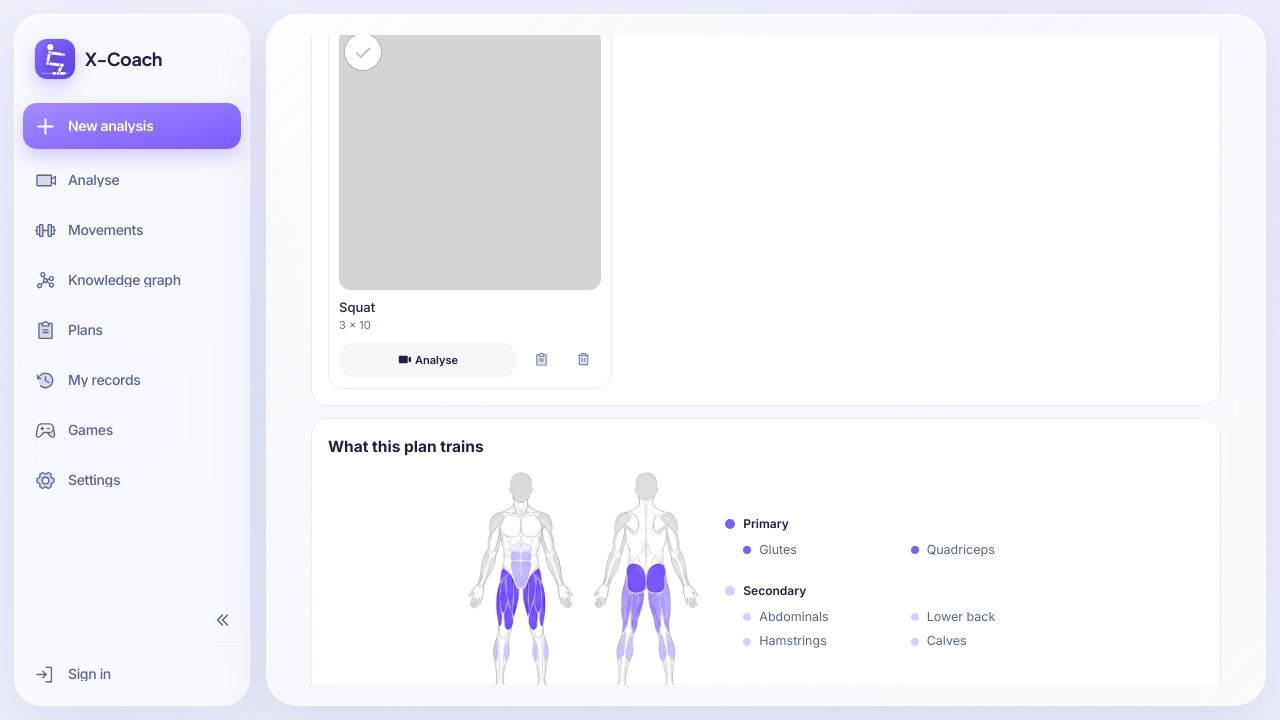
PlanDetail — editing › removes an exercise
(page scrolled)
Click the button named "remove squat" at [583, 360], box [565,342,601,378]
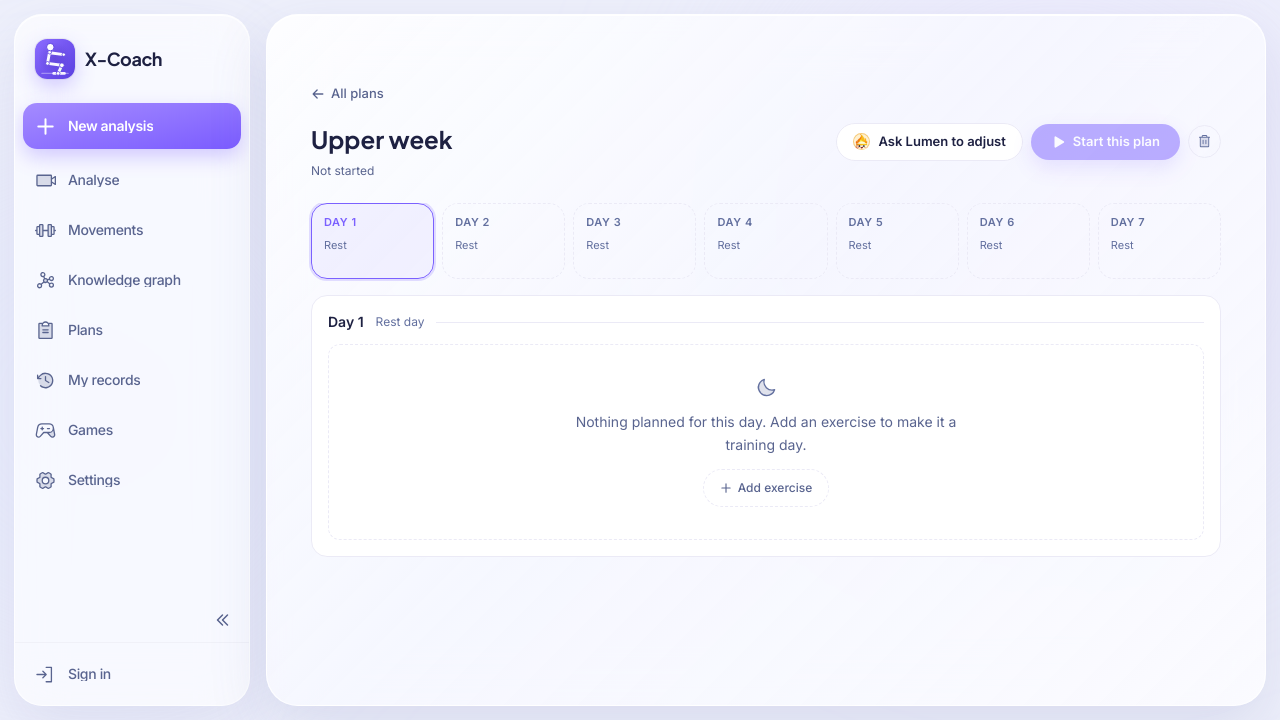
expect the text "Squat" is gone: met
